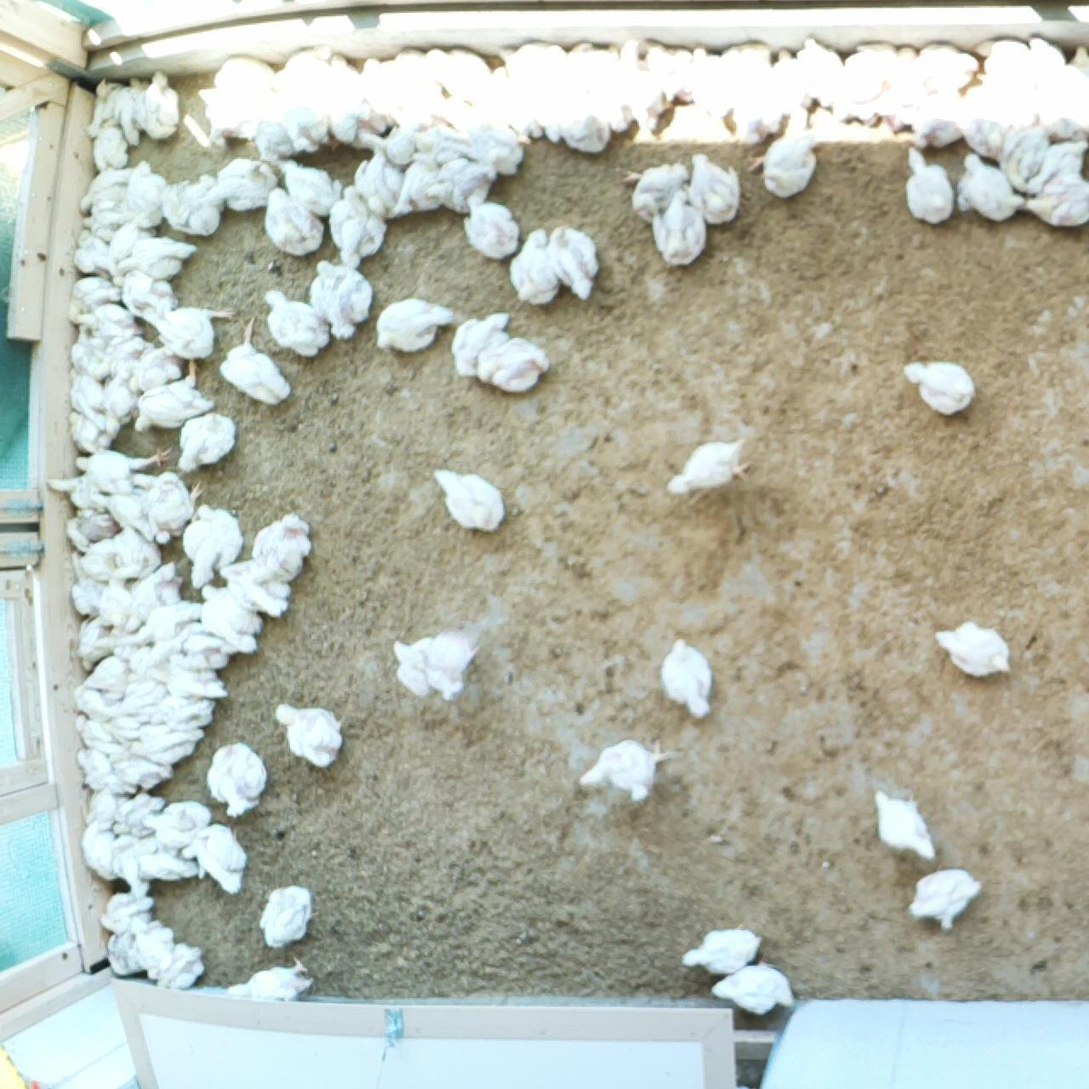chicken: (574, 733, 673, 805), (125, 464, 206, 545), (746, 109, 818, 199), (219, 319, 293, 406), (425, 465, 512, 536), (133, 358, 213, 434), (664, 436, 757, 501), (392, 631, 476, 702), (304, 257, 374, 341), (72, 439, 171, 496), (328, 184, 391, 270), (832, 41, 894, 128), (186, 502, 246, 591), (899, 355, 980, 420), (660, 634, 720, 721), (957, 148, 1026, 223), (261, 288, 331, 361), (932, 619, 1015, 680), (615, 37, 667, 134), (205, 736, 265, 819), (907, 865, 982, 931), (195, 584, 267, 652), (871, 787, 938, 860), (873, 40, 923, 137), (373, 293, 453, 353), (679, 923, 763, 980), (81, 525, 162, 584), (146, 621, 236, 674), (275, 701, 347, 767), (215, 558, 292, 619), (223, 954, 315, 1005), (246, 513, 313, 583), (181, 823, 247, 894), (647, 187, 705, 267), (152, 305, 236, 360), (1018, 164, 1089, 229), (124, 560, 184, 636), (1035, 59, 1089, 143), (681, 153, 742, 227), (707, 962, 795, 1013), (898, 147, 955, 225), (477, 335, 551, 395), (263, 188, 326, 258), (621, 157, 688, 222), (715, 38, 775, 110), (204, 152, 277, 211), (548, 221, 602, 300), (452, 308, 512, 379), (144, 659, 234, 706), (159, 172, 223, 238), (425, 157, 495, 217), (732, 70, 785, 148), (906, 83, 967, 150), (1021, 134, 1089, 194), (177, 408, 235, 478), (461, 190, 519, 259), (88, 483, 153, 543), (999, 119, 1049, 197), (510, 226, 559, 305), (975, 35, 1033, 101), (904, 42, 979, 93), (956, 87, 1007, 162), (257, 884, 313, 952), (69, 741, 133, 800), (280, 158, 341, 219), (120, 158, 171, 230), (423, 45, 489, 100), (523, 72, 572, 146), (768, 43, 815, 119), (91, 328, 154, 384), (467, 121, 528, 178), (686, 45, 732, 120), (497, 38, 564, 89), (117, 235, 199, 276), (794, 36, 841, 107), (121, 641, 166, 715), (353, 115, 418, 166), (99, 363, 143, 438), (140, 800, 207, 849), (125, 723, 201, 766), (355, 53, 403, 121), (41, 469, 109, 517), (556, 91, 606, 156), (391, 46, 435, 119), (352, 149, 399, 217), (488, 67, 533, 138), (62, 550, 107, 620), (107, 831, 151, 902), (93, 886, 153, 938), (279, 103, 340, 154), (391, 153, 440, 216), (589, 71, 636, 136), (638, 43, 687, 105), (71, 302, 143, 344), (147, 940, 206, 991), (112, 75, 153, 148), (136, 596, 200, 642), (137, 70, 180, 138), (129, 921, 176, 983), (273, 43, 333, 90), (128, 342, 182, 393), (84, 77, 125, 144), (66, 272, 122, 321), (107, 752, 177, 791), (81, 649, 131, 703), (147, 690, 214, 730), (80, 162, 131, 214), (108, 216, 157, 270), (409, 119, 471, 161), (120, 270, 171, 321), (565, 38, 618, 87), (68, 710, 122, 758), (88, 119, 133, 176), (78, 819, 120, 879), (112, 790, 163, 839), (197, 86, 243, 139), (323, 90, 370, 141), (65, 366, 107, 422), (75, 503, 120, 555), (77, 614, 114, 677), (68, 229, 114, 279), (96, 570, 133, 632), (431, 89, 482, 132), (137, 846, 196, 883), (64, 409, 111, 455), (213, 56, 272, 92), (323, 53, 367, 100), (78, 198, 132, 236), (87, 786, 128, 835), (68, 325, 103, 381), (251, 114, 291, 162), (100, 706, 146, 746), (68, 683, 120, 718), (1023, 34, 1067, 75), (105, 932, 141, 977), (1067, 42, 1089, 83)
